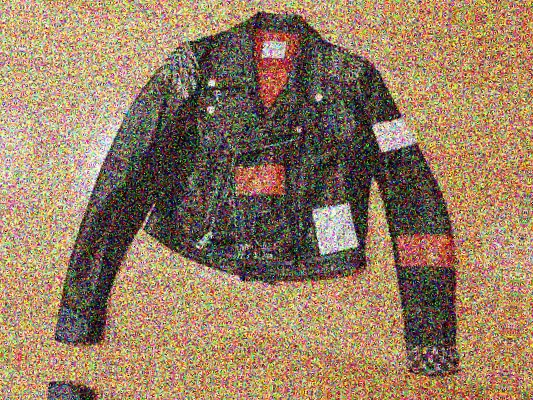Blazer: (39, 0, 514, 400), (0, 366, 467, 400), (89, 0, 533, 0)
